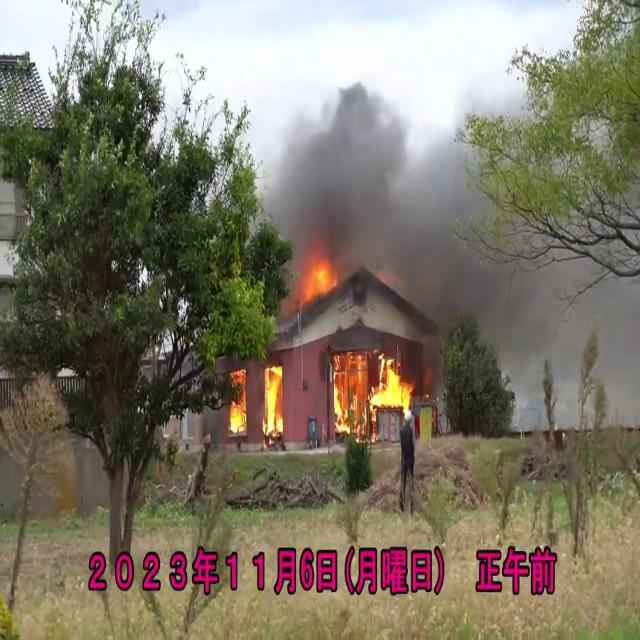Fire: (333, 341, 417, 432), (295, 250, 343, 308)
Smoke: (258, 52, 513, 290)
